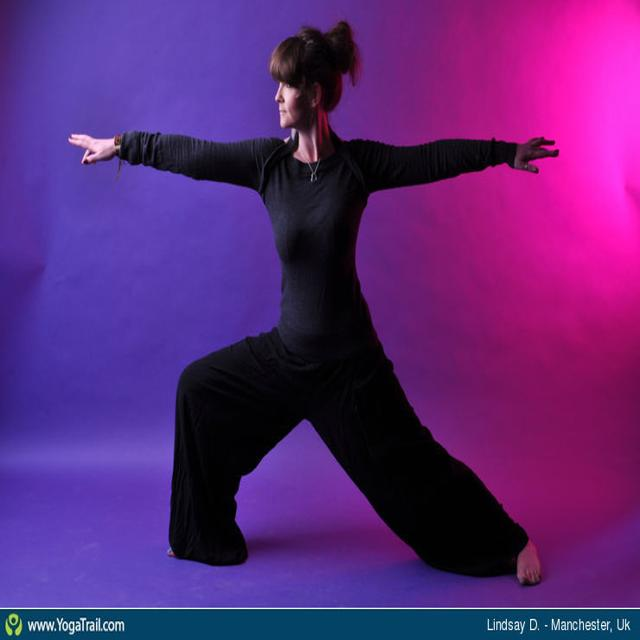Warrior_II: (65, 22, 562, 589)
